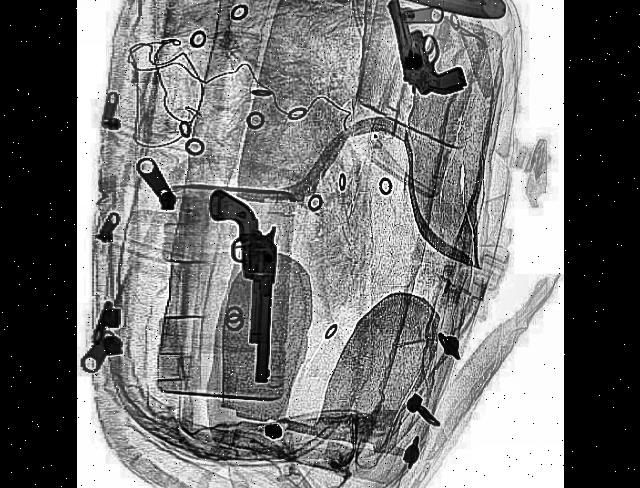Gun: (198, 187, 278, 381), (384, 0, 466, 113)
Knife: (171, 0, 504, 20)
